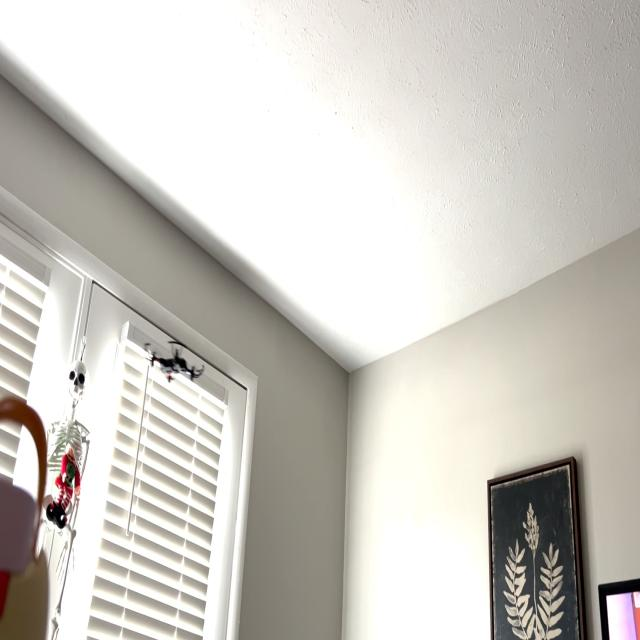drone: (139, 322, 209, 398)
